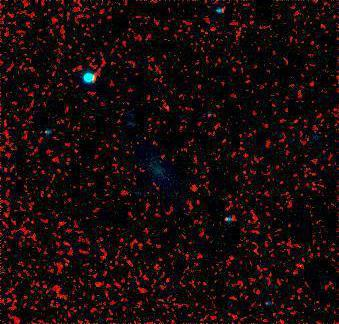star: (152, 91, 182, 121)
